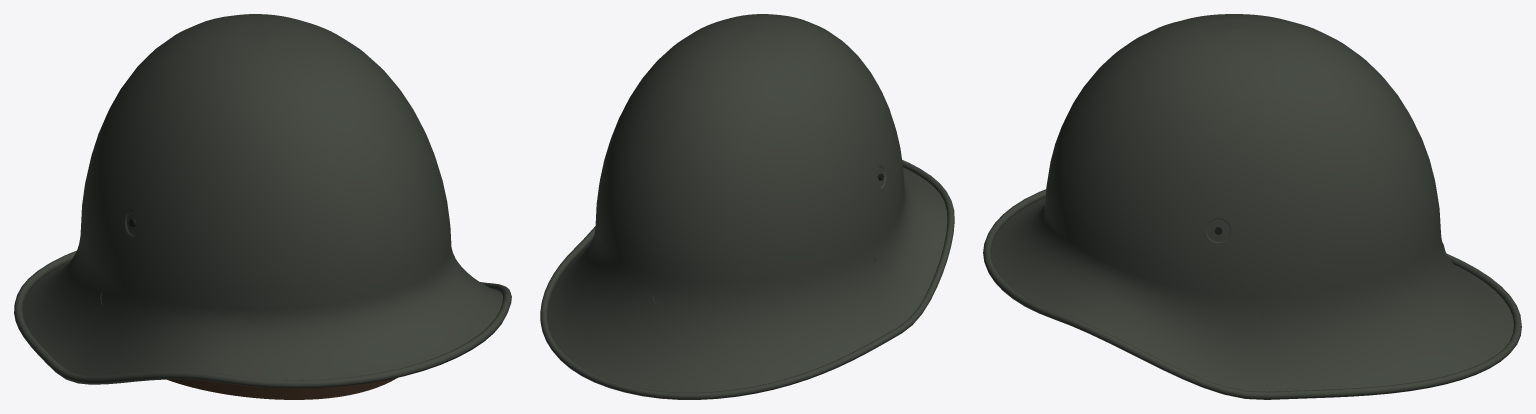
The model's file is m40-helmet.glb.
3 views of the same model, side by side, from view 1: azimuth 30°, elevation 25°; view 2: azimuth 150°, elevation 25°; view 3: azimuth 270°, elevation 25° (orthographic). The views are drawn at different scales.
Visible parts, largest first — view 1: de-m40-helmet; view 2: de-m40-helmet; view 3: de-m40-helmet.
Boxes of the visible parts, x1=… form: de-m40-helmet: x1=14, y1=14, x2=511, y2=399; de-m40-helmet: x1=540, y1=14, x2=954, y2=399; de-m40-helmet: x1=983, y1=14, x2=1521, y2=399.
Size of the model in its own units: 0.2508 by 0.1934 by 0.3149.
